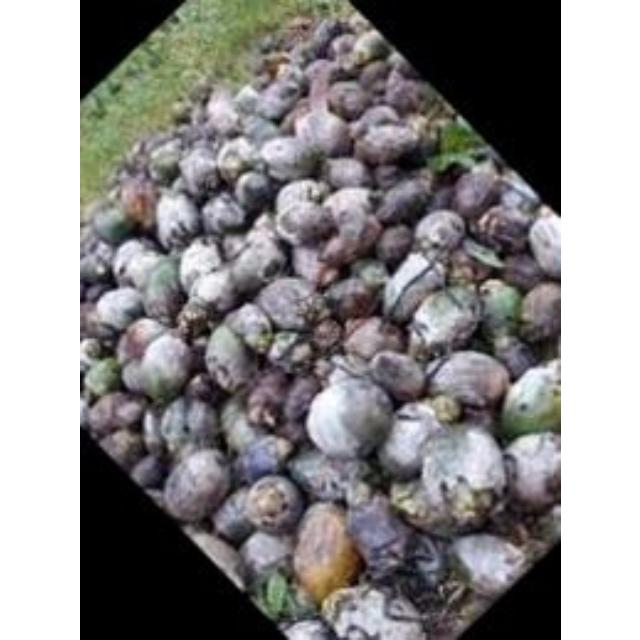damaged: (416, 424, 506, 518), (304, 376, 391, 460), (292, 502, 361, 600), (342, 496, 418, 582), (322, 582, 420, 640), (161, 447, 231, 521), (405, 288, 481, 356), (377, 401, 443, 477), (428, 349, 508, 411), (498, 362, 560, 438), (500, 432, 560, 510), (378, 252, 444, 322), (447, 531, 521, 593), (128, 332, 192, 400), (399, 534, 456, 600), (204, 322, 258, 390), (242, 474, 302, 532), (254, 275, 316, 329), (228, 233, 284, 291), (158, 398, 216, 452), (254, 571, 314, 623), (294, 108, 350, 160), (354, 122, 420, 166), (320, 186, 378, 236), (368, 350, 424, 400), (233, 433, 290, 482), (474, 205, 532, 253), (258, 134, 318, 180), (431, 590, 493, 634), (274, 199, 332, 245), (87, 389, 145, 435), (376, 175, 430, 223), (343, 318, 401, 362), (142, 260, 184, 320), (518, 282, 560, 342), (450, 168, 500, 218), (411, 208, 465, 254), (154, 192, 198, 248), (322, 276, 378, 320), (476, 280, 520, 334), (239, 530, 289, 576), (222, 400, 264, 454), (118, 176, 158, 230), (117, 317, 165, 361), (93, 288, 143, 330), (178, 238, 220, 288), (527, 214, 559, 278), (177, 148, 219, 195), (255, 78, 301, 120), (274, 179, 324, 217), (224, 302, 270, 343), (214, 138, 256, 182), (112, 240, 154, 284), (200, 194, 244, 236), (281, 378, 317, 428), (324, 79, 368, 119), (192, 268, 236, 308), (495, 170, 539, 210), (98, 429, 142, 468), (324, 155, 371, 191), (492, 340, 534, 380), (325, 360, 377, 392), (374, 224, 414, 264), (146, 140, 184, 182), (348, 28, 390, 66), (446, 246, 490, 282), (82, 358, 121, 398), (90, 204, 130, 243), (382, 74, 422, 112), (233, 170, 271, 210), (249, 371, 287, 411), (290, 244, 326, 286), (140, 406, 170, 456), (174, 116, 213, 154), (502, 253, 542, 289), (240, 114, 282, 148), (128, 454, 166, 491), (354, 104, 400, 134), (388, 479, 426, 515), (80, 304, 116, 342), (242, 222, 280, 258), (524, 509, 558, 549), (204, 90, 238, 130), (119, 360, 153, 398), (266, 331, 302, 365), (356, 60, 392, 94), (176, 305, 210, 341), (302, 58, 340, 90), (80, 248, 112, 286), (340, 475, 374, 509), (281, 618, 333, 640), (246, 396, 280, 429), (310, 317, 342, 351), (352, 258, 390, 286), (328, 33, 360, 65), (230, 84, 262, 116), (426, 394, 460, 424), (284, 341, 316, 372), (426, 182, 456, 212), (387, 53, 419, 81), (218, 233, 248, 261), (371, 162, 403, 188), (80, 338, 104, 372), (83, 196, 111, 224), (185, 82, 211, 108), (316, 264, 342, 290), (126, 138, 150, 164), (252, 212, 276, 238), (82, 282, 108, 306), (170, 99, 194, 123), (79, 398, 93, 430), (258, 34, 280, 54), (274, 62, 292, 82)
